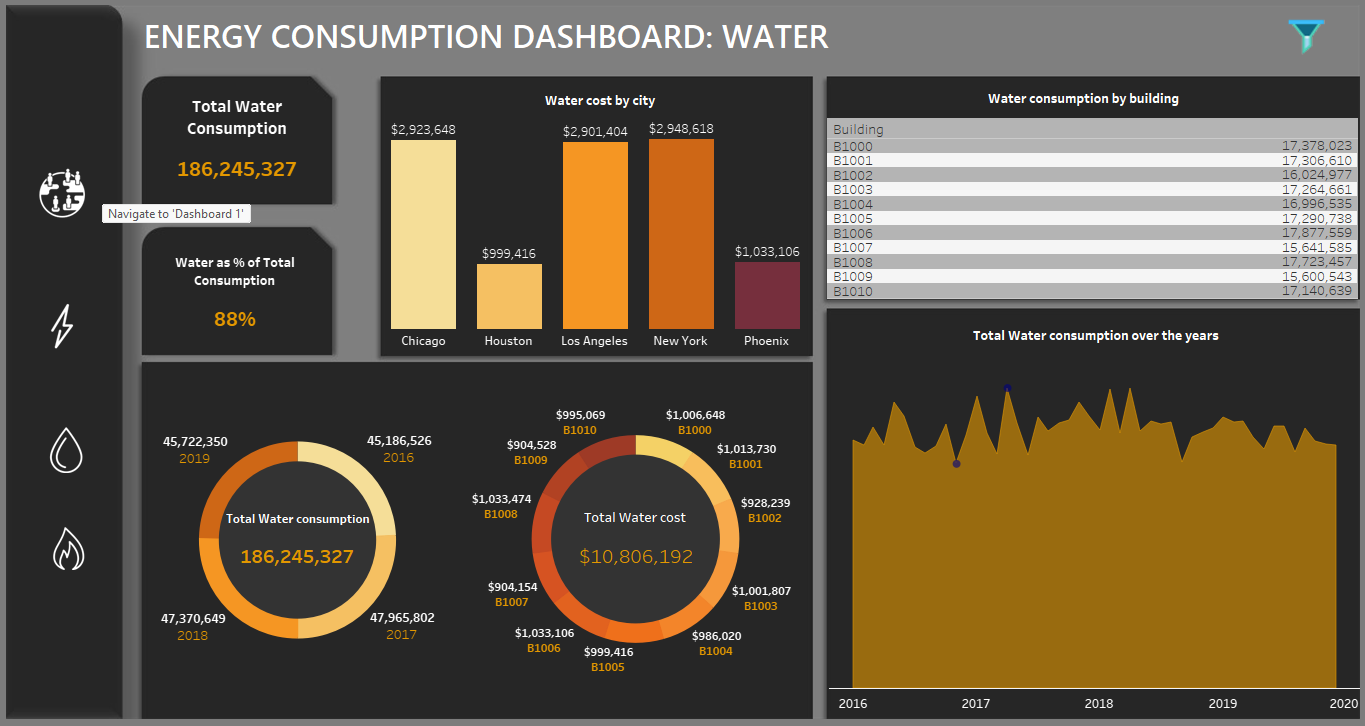

The page's visual inventory and layout, read from the dashboard file:
{"tool":"tableau","page":{"name":"Dashboard 3","canvas":[1366,720],"ordinal":2},"visuals":[{"type":"image","param":"Image/ignite bg ener 2.jpg","box":[0,0,1366,720]},{"type":"text","box":[141,3,790,60]},{"type":"dashboard-object","box":[1279,13,55,42]},{"type":"filter","title":"water cost by city (2)","param":"[federated.14768py0nmov6b1293c7i02sff1x].[none:City:nk]","box":[1198,51,160,157]},{"type":"text","box":[460,76,280,44]},{"type":"worksheet","title":"total wtr cosm (2)","mark":"Automatic","box":[143,78,189,119]},{"type":"text","box":[841,81,485,30]},{"type":"worksheet","title":"water cost by city (2)","mark":"Automatic","rows":["Total water cost"],"cols":["City"],"box":[381,110,430,243]},{"type":"worksheet","title":"Sheet 12 (3)","mark":"Automatic","rows":["Building"],"box":[827,116,531,181]},{"type":"dashboard-object","box":[9,165,106,52]},{"type":"worksheet","title":"watr cosm  per (3)","mark":"Automatic","box":[140,231,191,121]},{"type":"dashboard-object","box":[13,298,104,52]},{"type":"text","box":[885,315,422,36]},{"type":"worksheet","title":"wtr cst (2)","mark":"Pie","rows":["Calculation_1600185276623892486","Calculation_1600185276623892486"],"box":[462,360,347,354]},{"type":"worksheet","title":"Water","mark":"Pie","rows":["Calculation_1600185276623892486","Calculation_1600185276623892486"],"box":[143,361,309,354]},{"type":"worksheet","title":"water trend (2)","mark":"Area","rows":["Water Consumption","min max ele cons (copy)_1465640238118371330"],"cols":["Date"],"box":[829,368,531,348]},{"type":"dashboard-object","box":[9,425,114,46]},{"type":"dashboard-object","box":[16,525,105,43]}]}

Visuals, with their boxes in screenshot pixels (x1, y1, x2, y2), scaled from the page's 1366x720 canvas onto the 1365x726 screenshot:
image: rect(0, 0, 1364, 725)
text: rect(141, 3, 930, 64)
dashboard-object: rect(1278, 13, 1333, 55)
"water cost by city (2)" filter: rect(1197, 51, 1357, 210)
text: rect(460, 77, 739, 121)
"total wtr cosm (2)" worksheet: rect(143, 79, 332, 199)
text: rect(840, 82, 1325, 112)
"water cost by city (2)" worksheet: rect(381, 111, 810, 356)
"Sheet 12 (3)" worksheet: rect(826, 117, 1357, 299)
dashboard-object: rect(9, 166, 115, 219)
"watr cosm  per (3)" worksheet: rect(140, 233, 331, 355)
dashboard-object: rect(13, 300, 117, 353)
text: rect(884, 318, 1306, 354)
"wtr cst (2)" worksheet (Pie marks): rect(462, 363, 808, 720)
"Water" worksheet (Pie marks): rect(143, 364, 452, 721)
"water trend (2)" worksheet (Area marks): rect(828, 371, 1359, 722)
dashboard-object: rect(9, 429, 123, 475)
dashboard-object: rect(16, 529, 121, 573)
